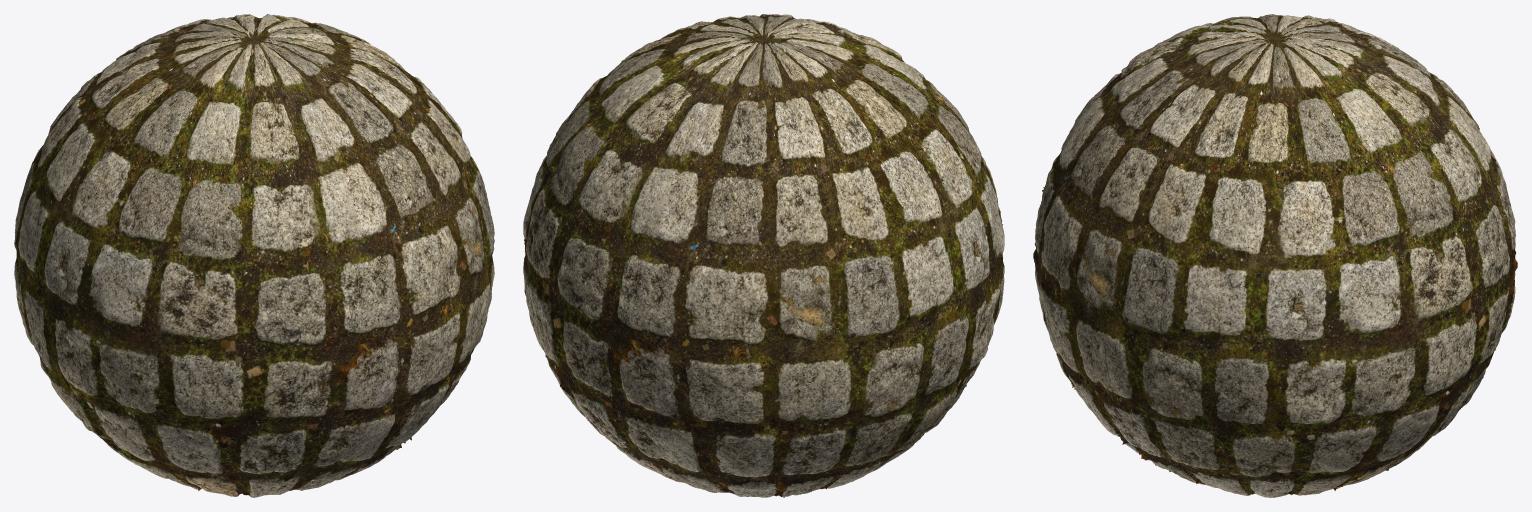
Rendered from stone_tiles_03_4k-transformed.glb.
The picture shows the model from 3 angles, left to right: view 1: azimuth 30°, elevation 25°; view 2: azimuth 150°, elevation 25°; view 3: azimuth 270°, elevation 25°; orthographic projection.
Parts seen in each view (by area): view 1: sphere_gltf; view 2: sphere_gltf; view 3: sphere_gltf.
Part boxes in pixels (x1=…): sphere_gltf: x1=14, y1=14, x2=494, y2=497; sphere_gltf: x1=523, y1=14, x2=1004, y2=497; sphere_gltf: x1=1033, y1=14, x2=1517, y2=497.
Size of the model in its own units: 1.94 by 1.95 by 1.95.
Materials: 1 (1 with a texture image).
